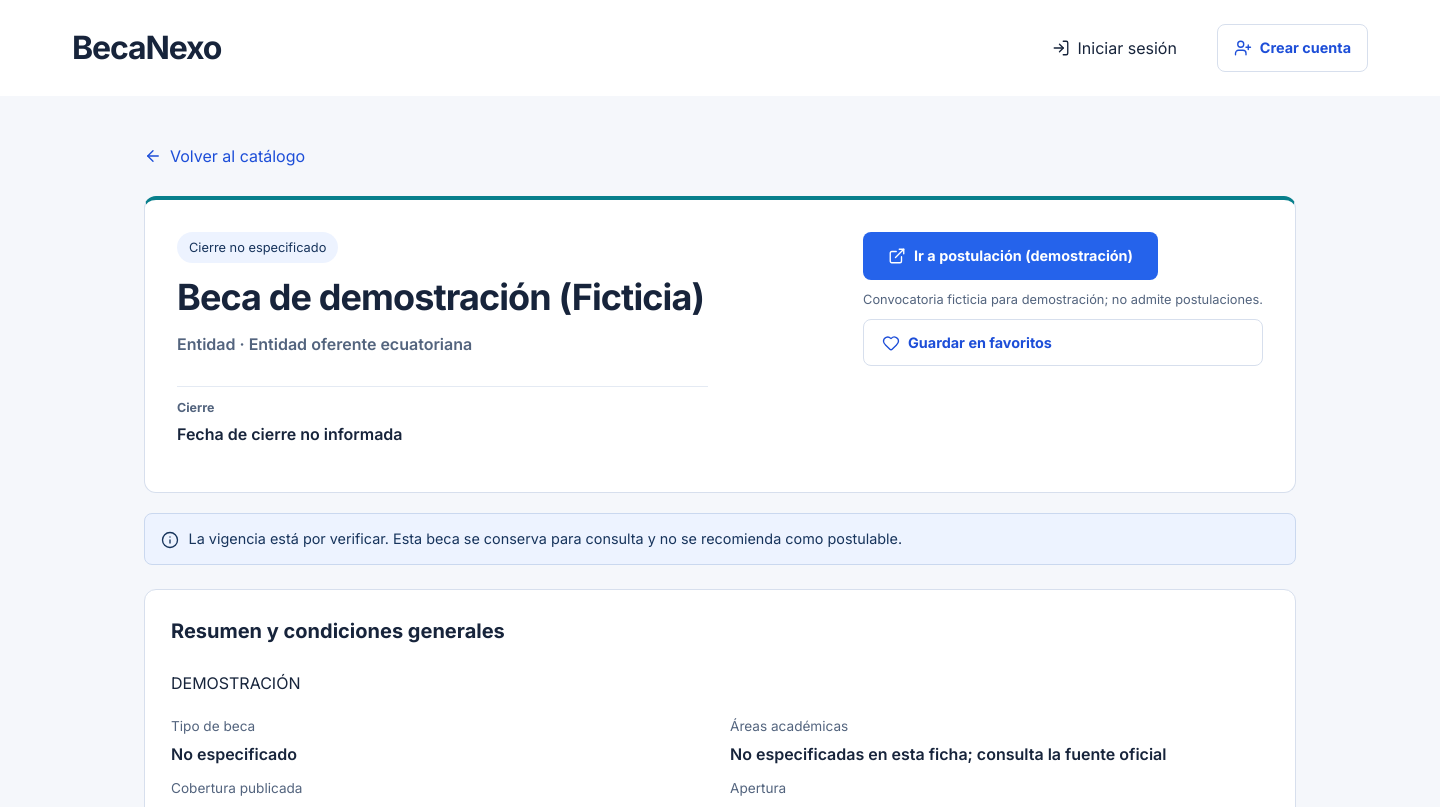
Test case: identifica una beca ficticia sin presentar sus enlaces de ejemplo como oficiales
Expected: the text "Convocatoria ficticia para demostración" is shown, x1=863 y1=292 x2=1263 y2=307
Click the link "Ir a postulación (demostración)" at (1011, 256), box x1=863 y1=232 x2=1158 y2=280
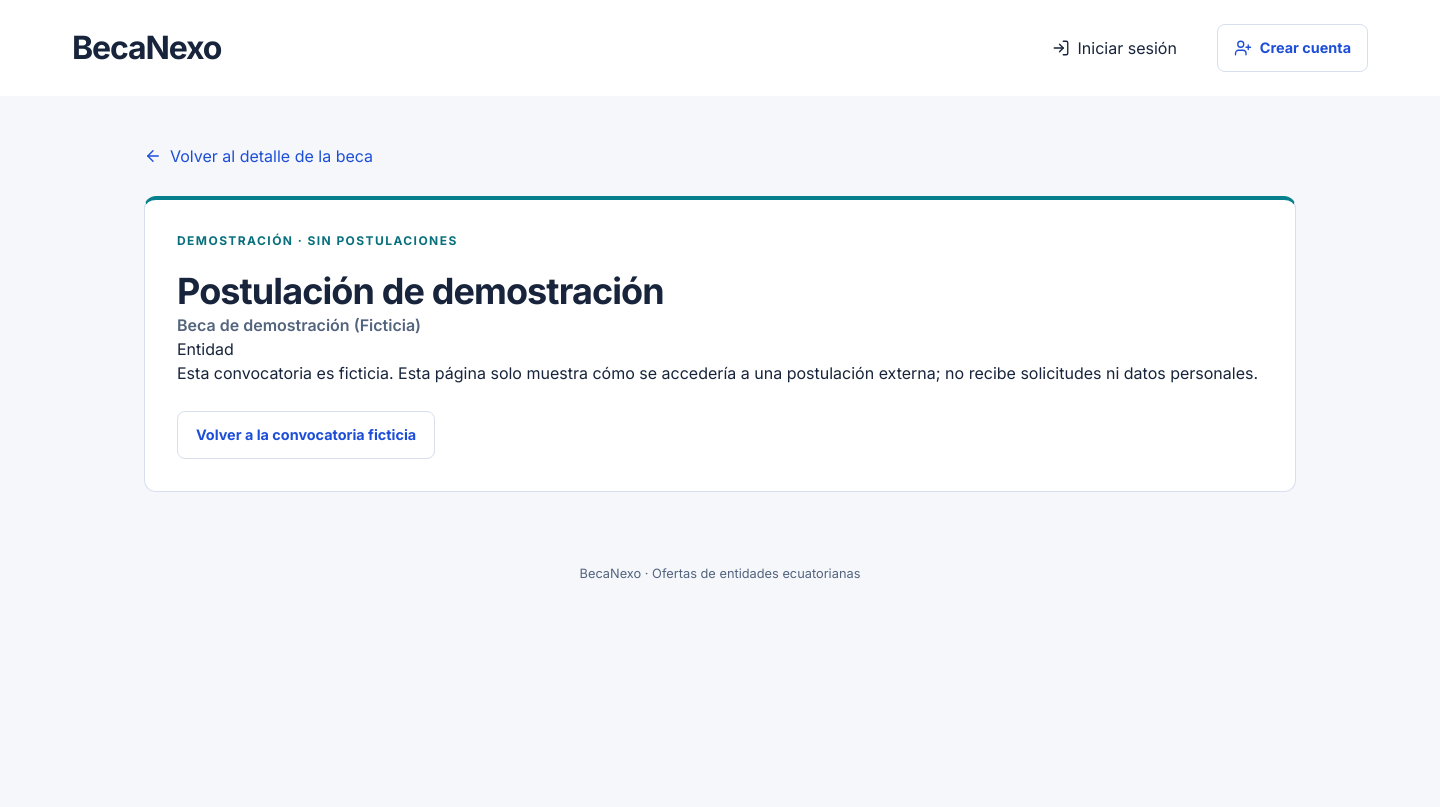
Expected: the heading "Postulación de demostración" is shown, x1=177 y1=269 x2=664 y2=313
Expected: the text "Beca de demostración (Ficticia)" is shown, x1=177 y1=315 x2=421 y2=335
Expected: the text "no recibe solicitudes ni datos personales" is shown, x1=177 y1=363 x2=1258 y2=383
